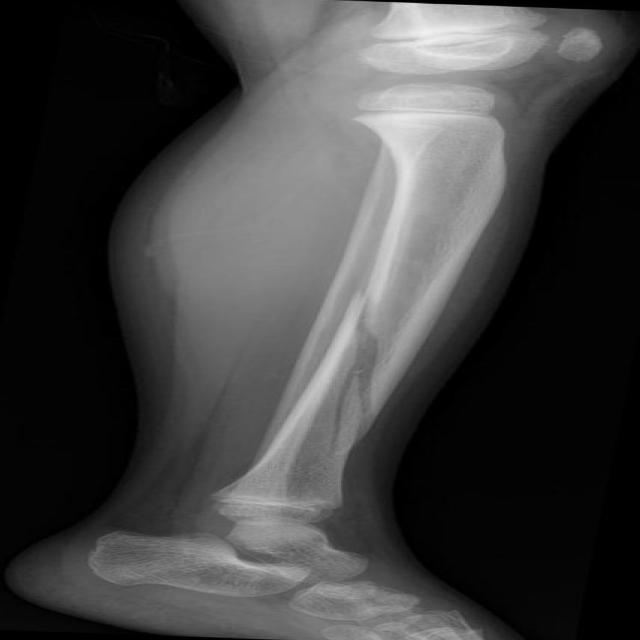Oblique Displaced: (286, 282, 461, 447)
